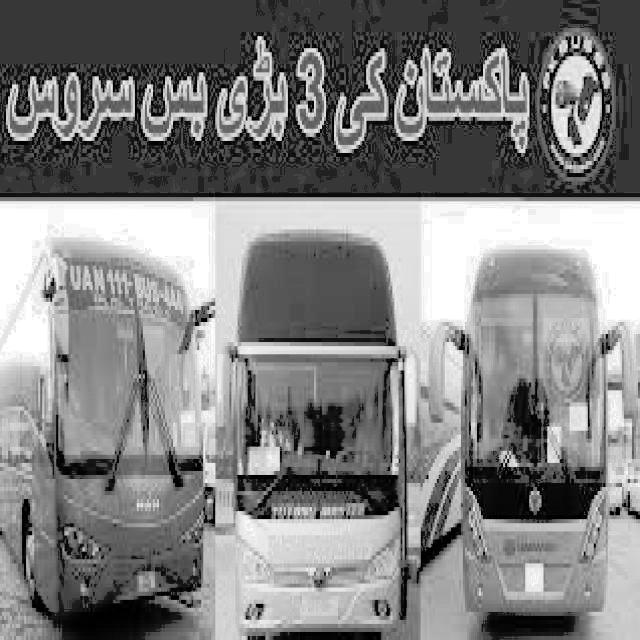Bus: (217, 213, 419, 640), (2, 233, 208, 639), (429, 231, 640, 612)
